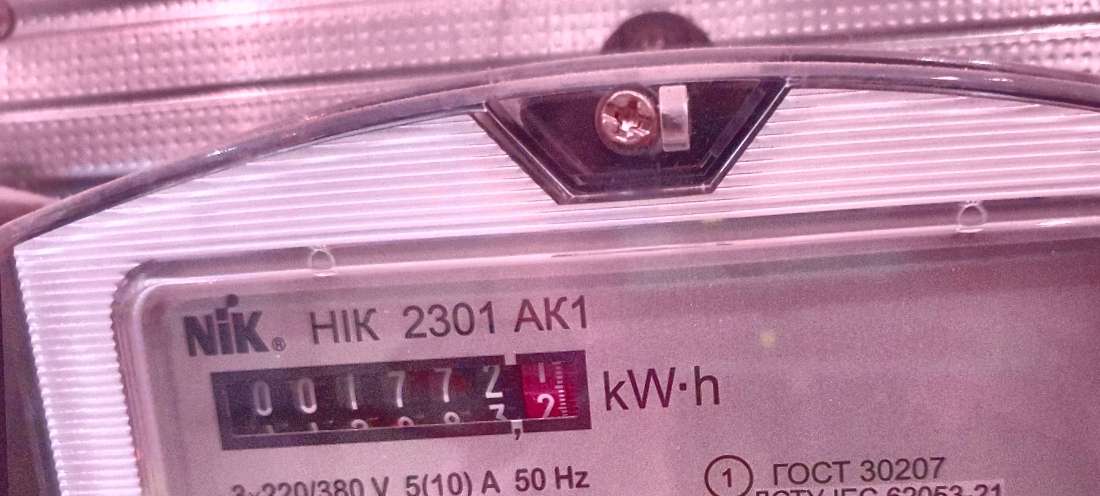0: (247, 375, 276, 417), (294, 373, 319, 413)
1: (343, 370, 361, 410), (534, 359, 548, 385)
2: (480, 362, 505, 400), (532, 389, 556, 418)
3: (487, 400, 509, 422)
7: (386, 367, 409, 409), (432, 364, 455, 404)
screen: (198, 337, 609, 461)
